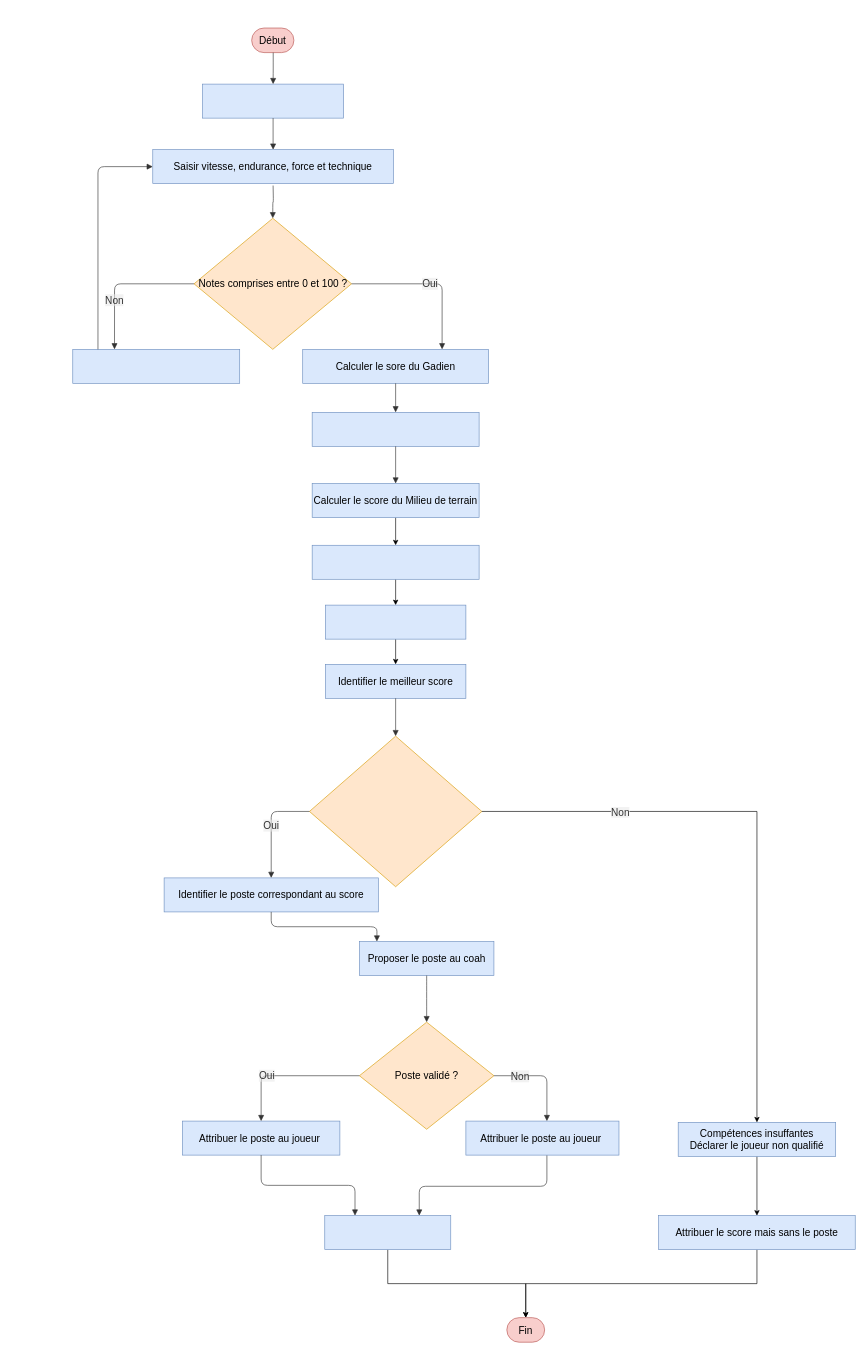
The diagram is 866 pixels wide and 1353 high, and some of its shapes have lost their labels. The shapes that lost their labels are listed below. From the top down, each one's centre as x and y in pixels, then its label:
At pixel 273 100: "Sélectionner un joueur".
At pixel 156 366: "Afficher une erreur de saisie".
At pixel 395 429: "Calculer le score Défenseur".
At pixel 395 562: "Calculer le score de l'avant-centre".
At pixel 395 621: "Comparer les 4 scores".
At pixel 395 811: "Meilleur supérieur ou égale à 60 ?".
At pixel 387 1232: "Enregistrer le poste retenu".
